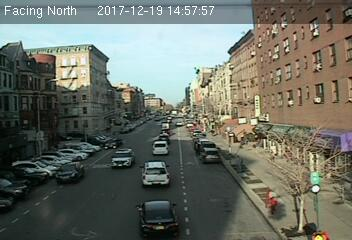car: (136, 198, 181, 237), (139, 161, 170, 186), (55, 162, 85, 183), (200, 147, 221, 163), (152, 141, 169, 154)
police: (111, 147, 136, 168)
